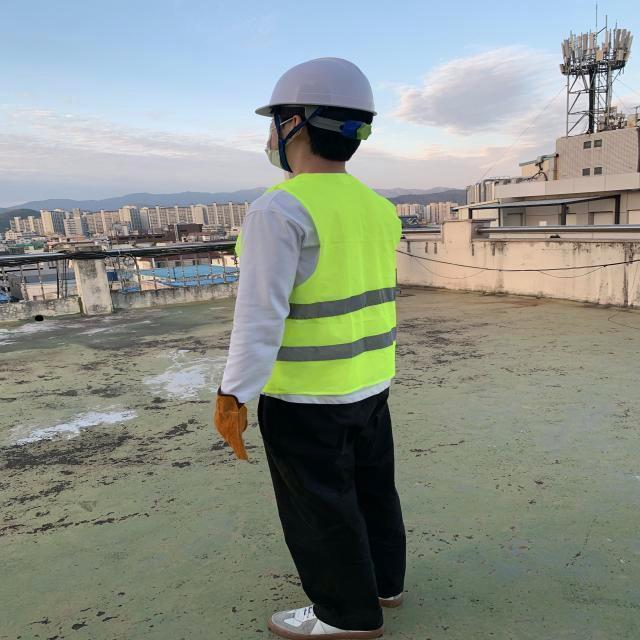vest: (236, 174, 403, 396)
